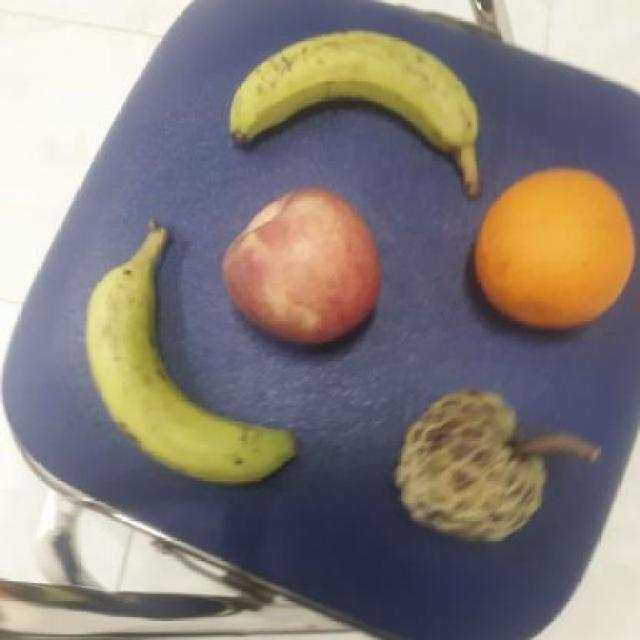apple: (222, 182, 388, 344)
banana: (75, 225, 296, 486), (222, 28, 486, 177)
oren: (465, 166, 637, 334)
sugar apple: (391, 386, 551, 546)
